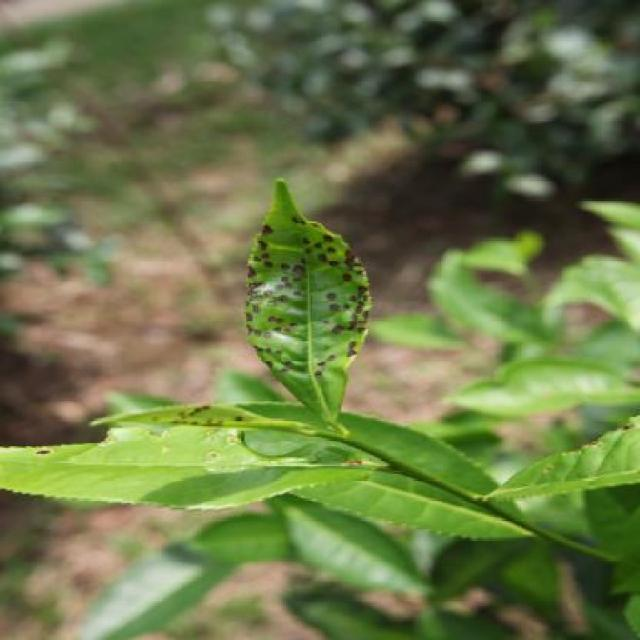Tea Mosquito bug infested leaf: (248, 178, 386, 422)
